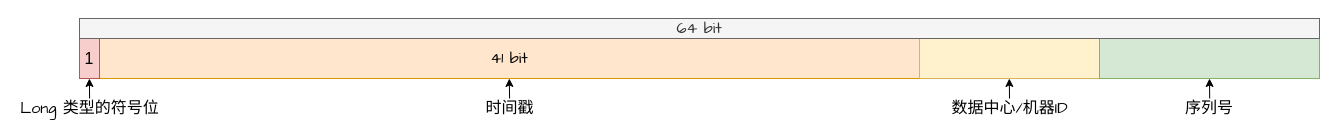
The diagram is 1337 pixels wide and 136 high, and some of its shapes have lost their labels. Here are the shapes that lost their labels. From the top down, the centre of each, then its label:
At (x=1009, y=58): "10 bit".
At (x=1209, y=58): "12 bit".
